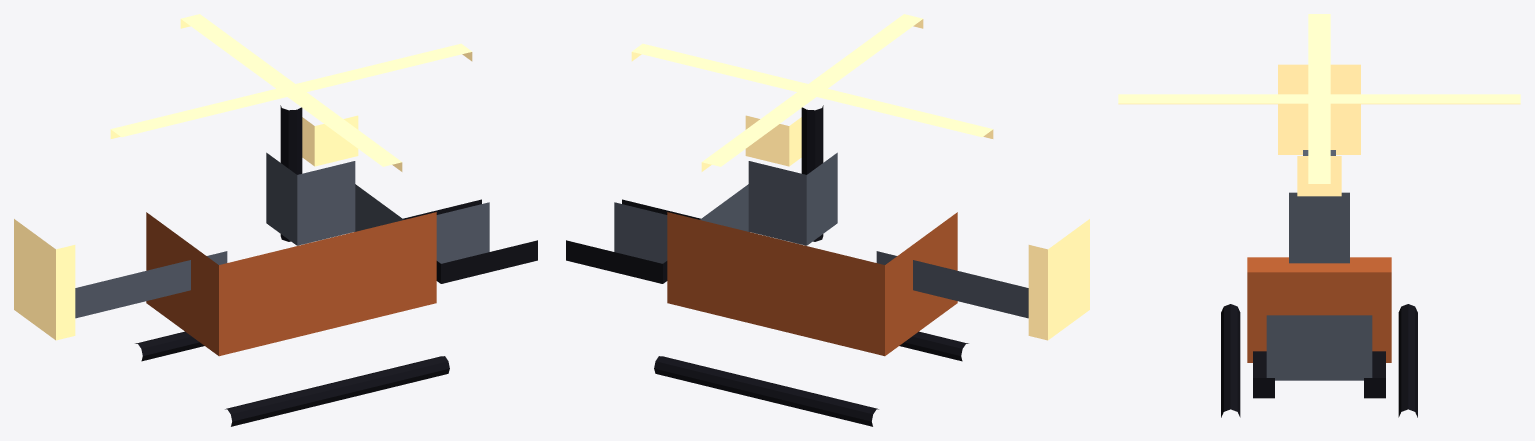
File: gyrocopter.glb
3 renders of one model, left to right at view 1: azimuth 30°, elevation 25°; view 2: azimuth 150°, elevation 25°; view 3: azimuth 270°, elevation 25°, orthographic.
Visible parts, largest first — view 1: gyrocopter-hull, gyrocopter-pilot-body, gyrocopter-tail-fin, gyrocopter-skid-l, gyrocopter-rotor-a, gyrocopter-rotor-b, gyrocopter-nose, gyrocopter-tail-boom, gyrocopter-gun-l, gyrocopter-pilot-head, gyrocopter-mast, gyrocopter-skid-r; view 2: gyrocopter-hull, gyrocopter-pilot-body, gyrocopter-tail-fin, gyrocopter-skid-r, gyrocopter-rotor-a, gyrocopter-nose, gyrocopter-rotor-b, gyrocopter-tail-boom, gyrocopter-gun-r, gyrocopter-pilot-head, gyrocopter-mast, gyrocopter-skid-l; view 3: gyrocopter-hull, gyrocopter-nose, gyrocopter-tail-fin, gyrocopter-rotor-b, gyrocopter-pilot-body, gyrocopter-rotor-a, gyrocopter-skid-l, gyrocopter-skid-r, gyrocopter-pilot-head, gyrocopter-gun-l, gyrocopter-gun-r.
Part boxes in pixels (x1,y1,x2,y2): gyrocopter-hull: [146, 212, 436, 356]; gyrocopter-pilot-body: [266, 152, 355, 245]; gyrocopter-tail-fin: [14, 219, 75, 340]; gyrocopter-skid-l: [225, 356, 449, 426]; gyrocopter-rotor-a: [110, 43, 472, 138]; gyrocopter-rotor-b: [180, 14, 402, 171]; gyrocopter-nose: [355, 184, 489, 263]; gyrocopter-tail-boom: [75, 251, 227, 318]; gyrocopter-gun-l: [436, 240, 537, 283]; gyrocopter-pilot-head: [302, 115, 358, 166]; gyrocopter-mast: [280, 105, 302, 241]; gyrocopter-skid-r: [135, 331, 204, 361]; gyrocopter-hull: [667, 212, 957, 356]; gyrocopter-pilot-body: [748, 152, 837, 245]; gyrocopter-tail-fin: [1028, 219, 1089, 340]; gyrocopter-skid-r: [654, 356, 878, 426]; gyrocopter-rotor-a: [631, 43, 993, 138]; gyrocopter-nose: [614, 184, 748, 263]; gyrocopter-rotor-b: [701, 14, 923, 171]; gyrocopter-tail-boom: [876, 251, 1028, 318]; gyrocopter-gun-r: [566, 240, 667, 283]; gyrocopter-pilot-head: [745, 115, 801, 166]; gyrocopter-mast: [801, 105, 823, 241]; gyrocopter-skid-l: [899, 331, 968, 361]; gyrocopter-hull: [1247, 257, 1391, 362]; gyrocopter-nose: [1266, 315, 1372, 380]; gyrocopter-tail-fin: [1278, 64, 1360, 154]; gyrocopter-rotor-b: [1118, 94, 1520, 104]; gyrocopter-pilot-body: [1289, 192, 1349, 263]; gyrocopter-rotor-a: [1308, 14, 1330, 183]; gyrocopter-skid-l: [1221, 304, 1240, 417]; gyrocopter-skid-r: [1398, 304, 1417, 417]; gyrocopter-pilot-head: [1297, 156, 1341, 196]; gyrocopter-gun-l: [1253, 351, 1274, 398]; gyrocopter-gun-r: [1364, 351, 1385, 398].
Bounding box in the file's own units: 1.94 × 1.1 × 1.45.
